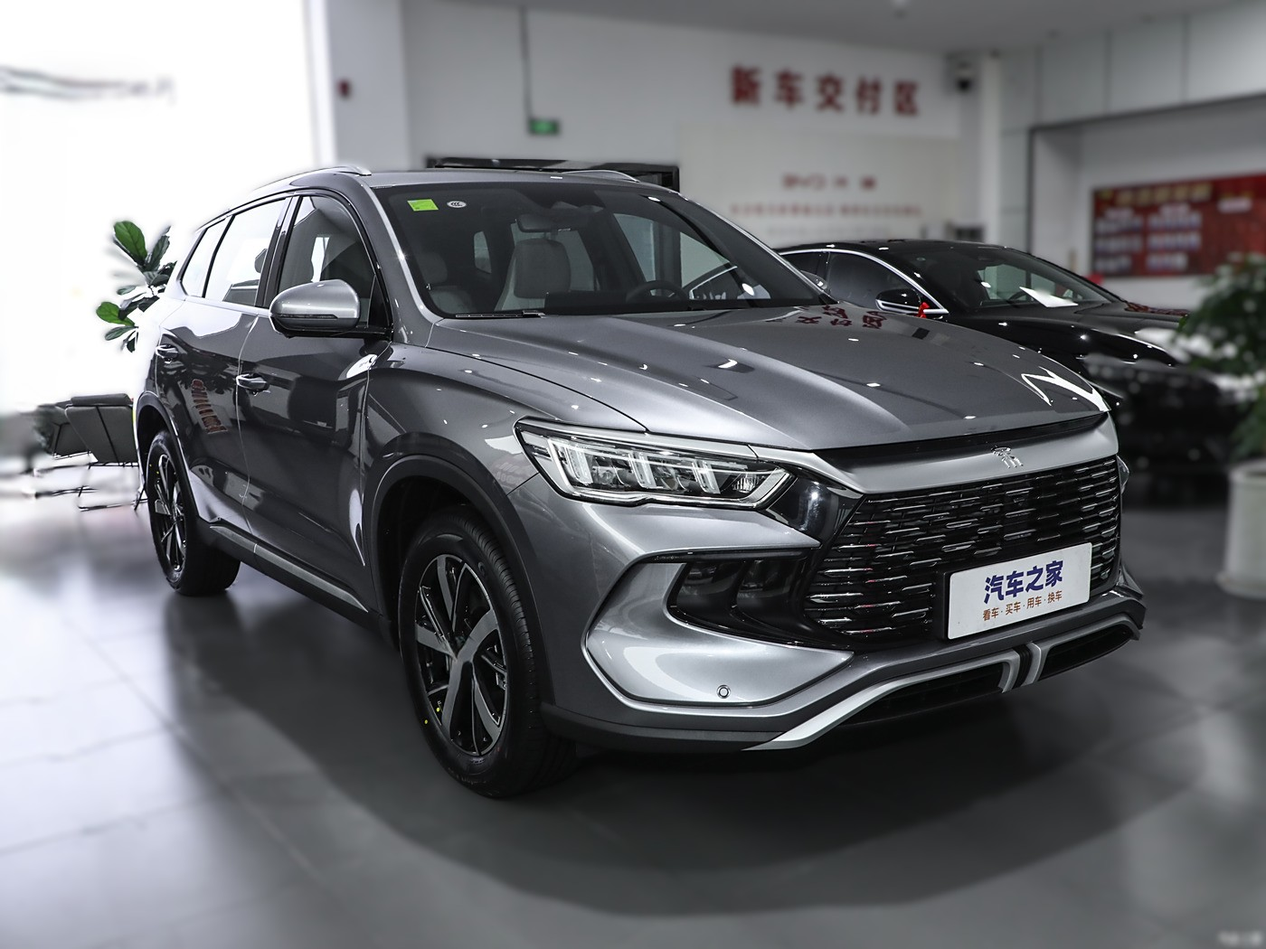BYD Song: (991, 445, 1024, 468)
